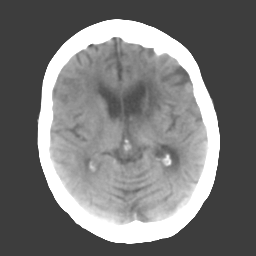ischemic: (55, 114, 88, 137)
